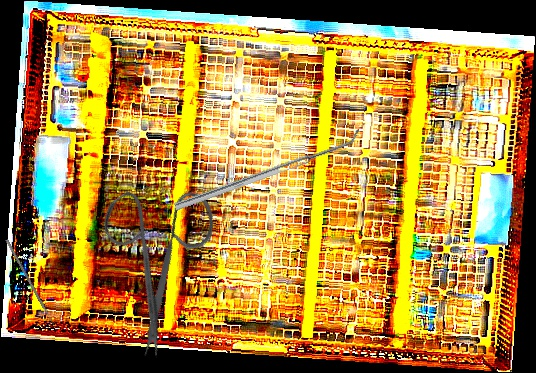Iris Scissors: (61, 157, 264, 363)
Pusher: (5, 238, 60, 335)
Spatula Surgical: (171, 128, 364, 211)
